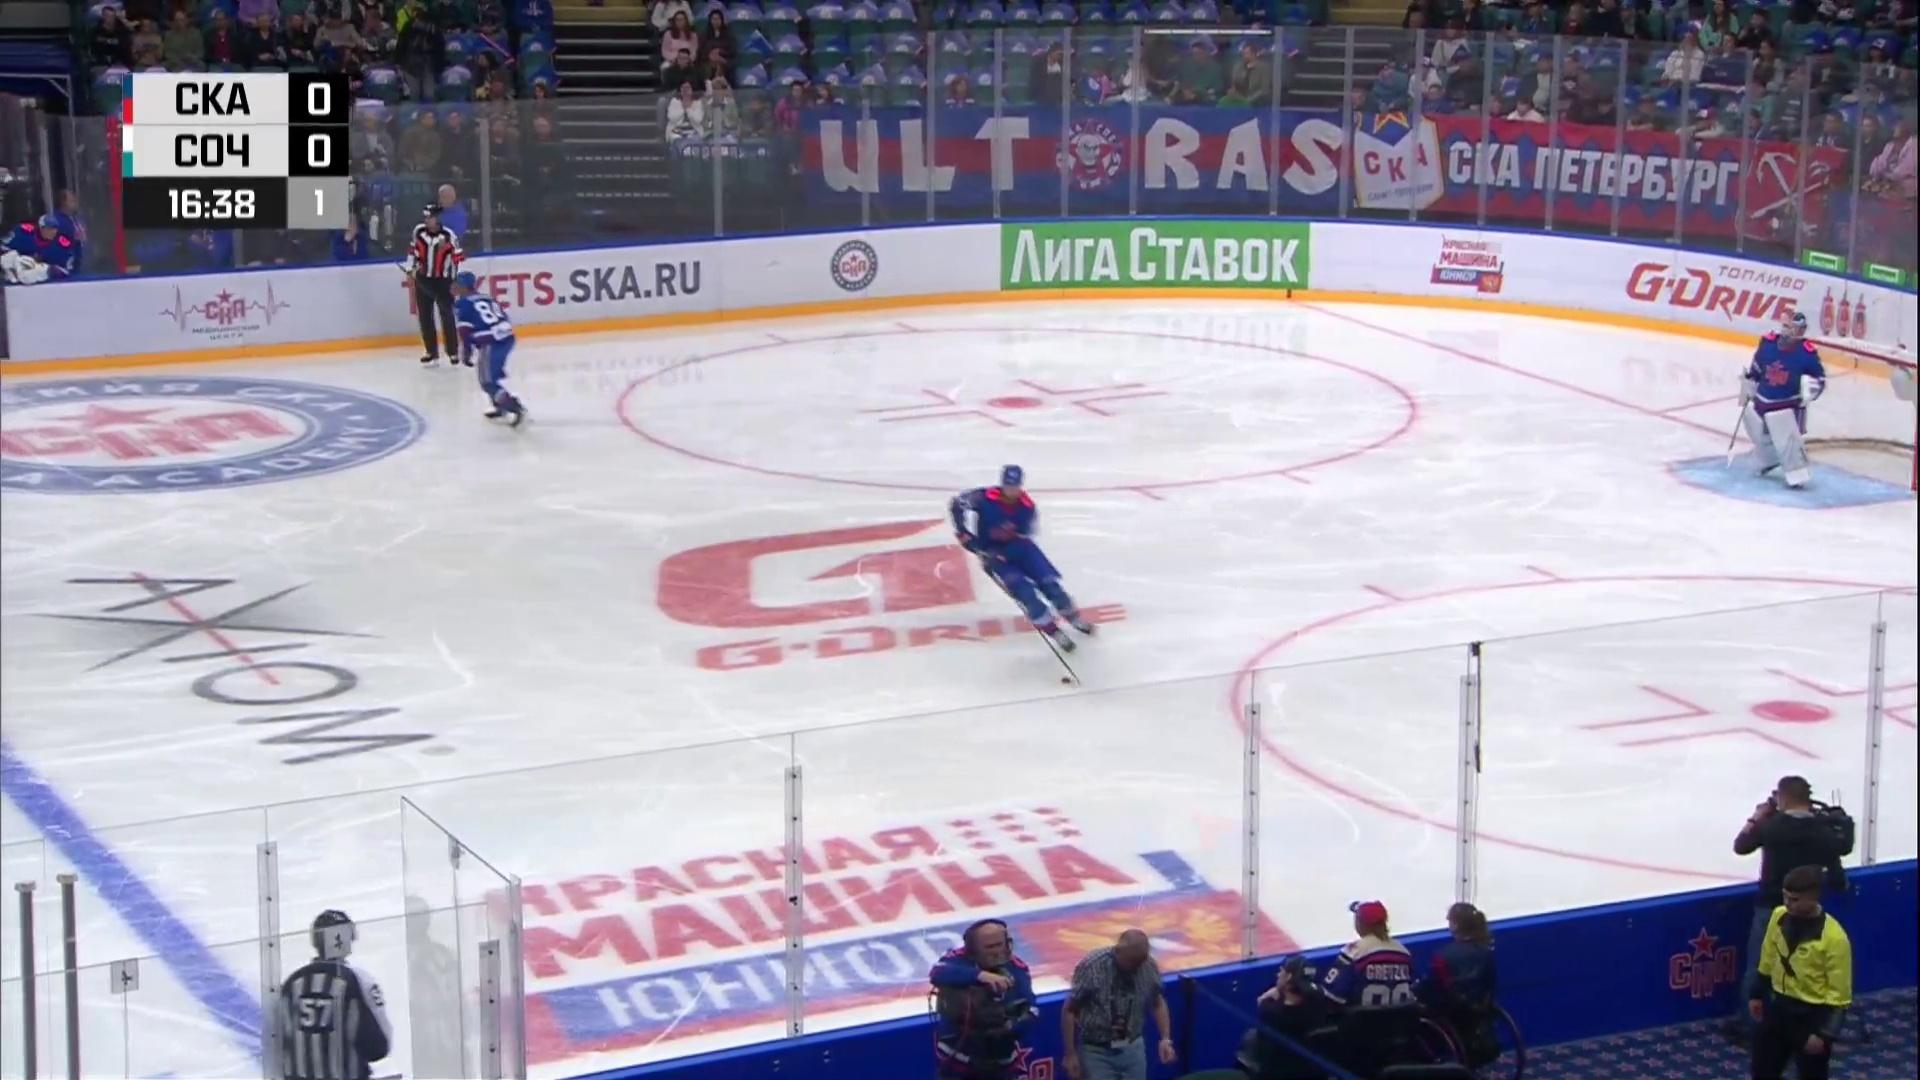ball: (1060, 676, 1071, 684)
